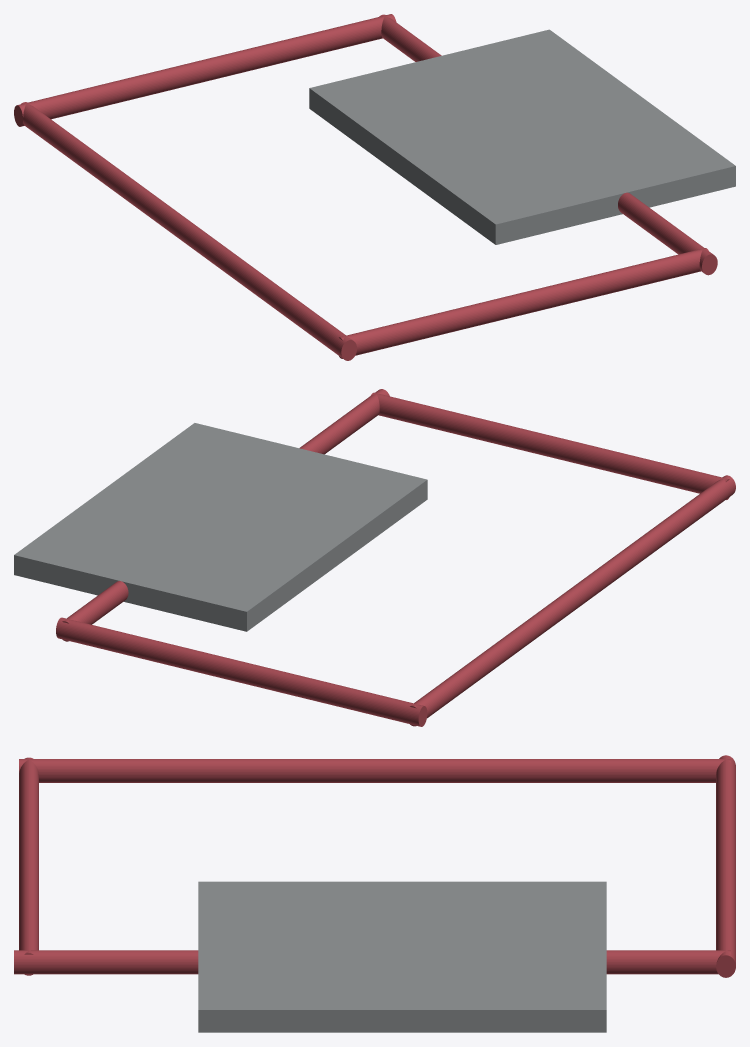
File: circuito_sem_pilha.glb
3 views of the same model, one above another, from view 1: azimuth 30°, elevation 25°; view 2: azimuth 150°, elevation 25°; view 3: azimuth 270°, elevation 25° (orthographic). The views are drawn at different scales.
Parts seen in each view (by area): view 1: Mesh_Mesh_head_geo.001_lambert2SG.001; view 2: Mesh_Mesh_head_geo.001_lambert2SG.001; view 3: Mesh_Mesh_head_geo.001_lambert2SG.001.
Boxes of the visible parts, x1,y1,x2,y2 form: Mesh_Mesh_head_geo.001_lambert2SG.001: [14, 14, 735, 360]; Mesh_Mesh_head_geo.001_lambert2SG.001: [14, 389, 735, 726]; Mesh_Mesh_head_geo.001_lambert2SG.001: [14, 755, 735, 1032].
Size of the model in its own units: 121 by 5 by 145.
